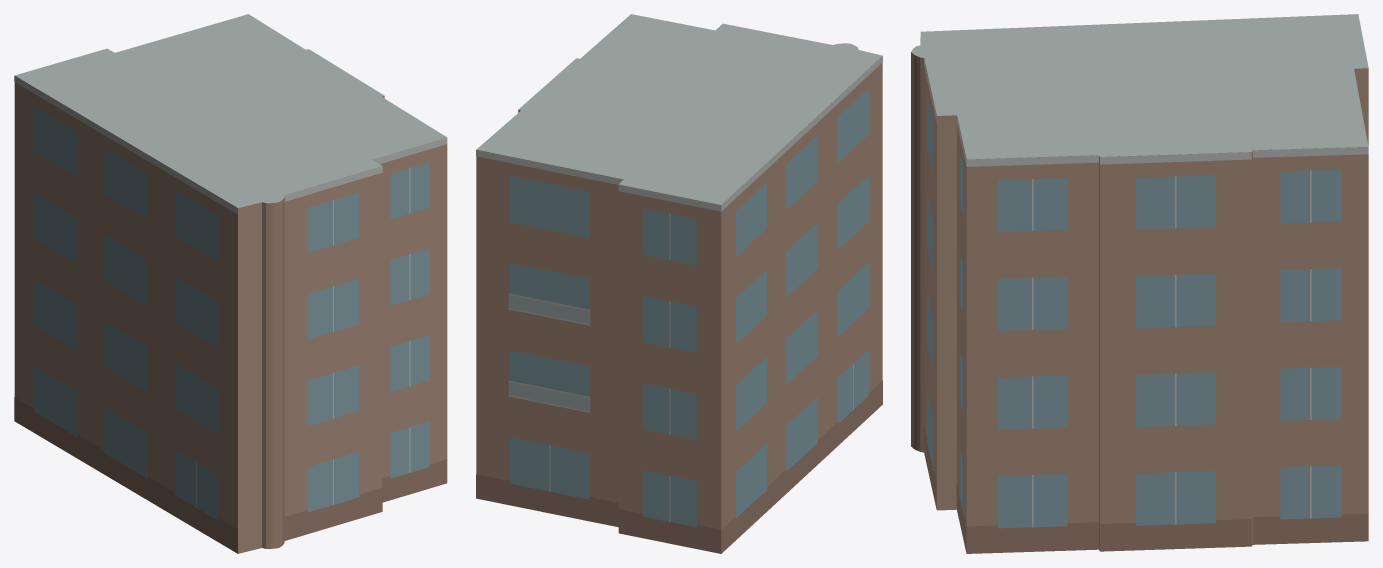
Rendered from survey-upis-32517312.glb.
3 views of the same model, side by side, from view 1: azimuth 30°, elevation 25°; view 2: azimuth 150°, elevation 25°; view 3: azimuth 270°, elevation 25° (orthographic). The views are drawn at different scales.
Parts seen in each view (by area): view 1: survey-upis-32517312.tmp; view 2: survey-upis-32517312.tmp; view 3: survey-upis-32517312.tmp.
Part boxes in pixels (x1,y1,x2,y2): survey-upis-32517312.tmp: [14, 14, 447, 553]; survey-upis-32517312.tmp: [476, 14, 882, 553]; survey-upis-32517312.tmp: [911, 14, 1368, 553].
Size of the model in its own units: 10.13 by 12.8 by 13.46.
